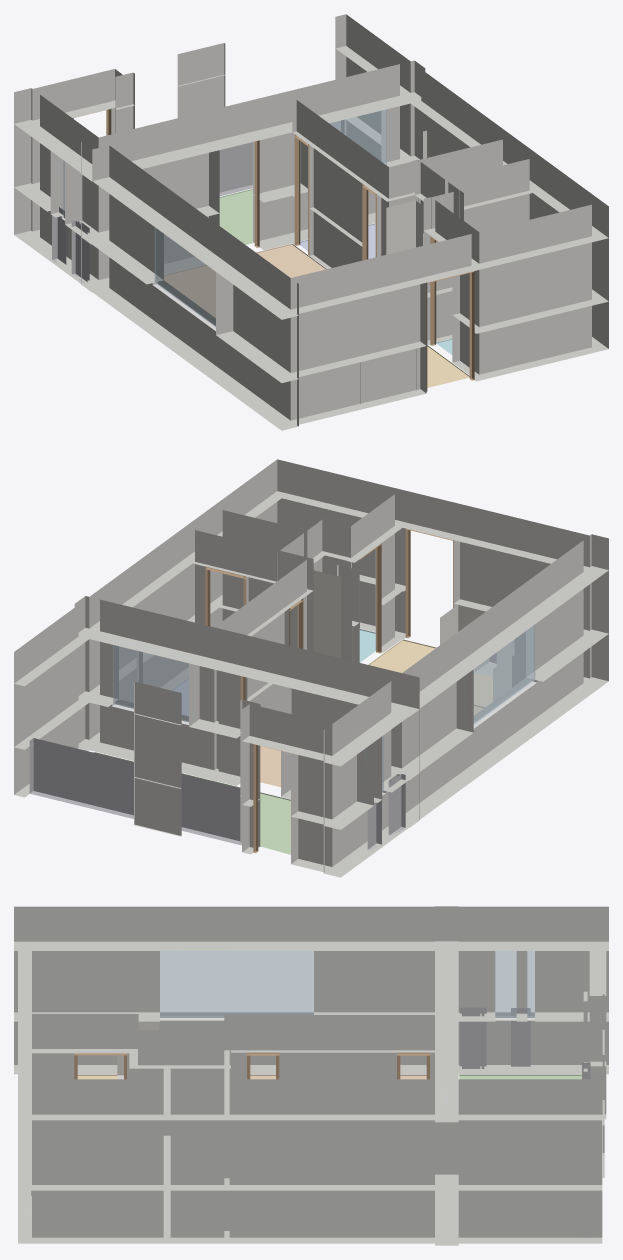
3 renders of one model, top to bottom at view 1: azimuth 30°, elevation 25°; view 2: azimuth 150°, elevation 25°; view 3: azimuth 270°, elevation 25°, orthographic. The views are drawn at different scales.
Parts seen in each view (by area): view 1: walls, window_3, railings, floor_0_Living_Room, furniture_1_closet, window_0, floor_6_Outdoor, door_7, floor_2_Kitchen, door_1, door_9, door_2; view 2: walls, railings, window_3, window_0, furniture_1_closet, floor_6_Outdoor, floor_2_Kitchen, furniture_2_closet, furniture_4_appliance, furniture_6_appliance, floor_0_Living_Room, door_1 (+3 smaller); view 3: walls, window_3, railings, window_8, floor_6_Outdoor, window_10.
Part boxes in pixels (x1,y1,x2,y2): walls: (14, 14, 608, 430); window_3: (154, 227, 224, 326); railings: (52, 120, 344, 283); floor_0_Living_Room: (164, 244, 326, 317); furniture_1_closet: (386, 200, 423, 254); window_0: (306, 109, 386, 186); floor_6_Outdoor: (219, 189, 253, 244); door_7: (294, 134, 309, 255); floor_2_Kitchen: (427, 345, 469, 387); door_1: (426, 271, 474, 391); door_9: (362, 184, 376, 260); door_2: (254, 140, 259, 247); walls: (14, 459, 608, 877); railings: (29, 738, 405, 850); window_3: (464, 624, 535, 729); window_0: (113, 639, 194, 722); furniture_1_closet: (313, 570, 341, 658); floor_6_Outdoor: (93, 752, 290, 854); floor_2_Kitchen: (368, 639, 492, 706); furniture_2_closet: (337, 564, 351, 660); furniture_4_appliance: (493, 655, 525, 701); furniture_6_appliance: (440, 605, 489, 673); floor_0_Living_Room: (260, 705, 484, 787); door_1: (405, 528, 453, 638); walls: (14, 906, 608, 1245); window_3: (160, 946, 313, 1017); railings: (459, 1007, 590, 1237); window_8: (495, 946, 516, 1017); floor_6_Outdoor: (459, 1074, 581, 1079); window_10: (527, 951, 534, 1017).
Size of the model in its own units: 6.61 by 2.72 by 9.18.
